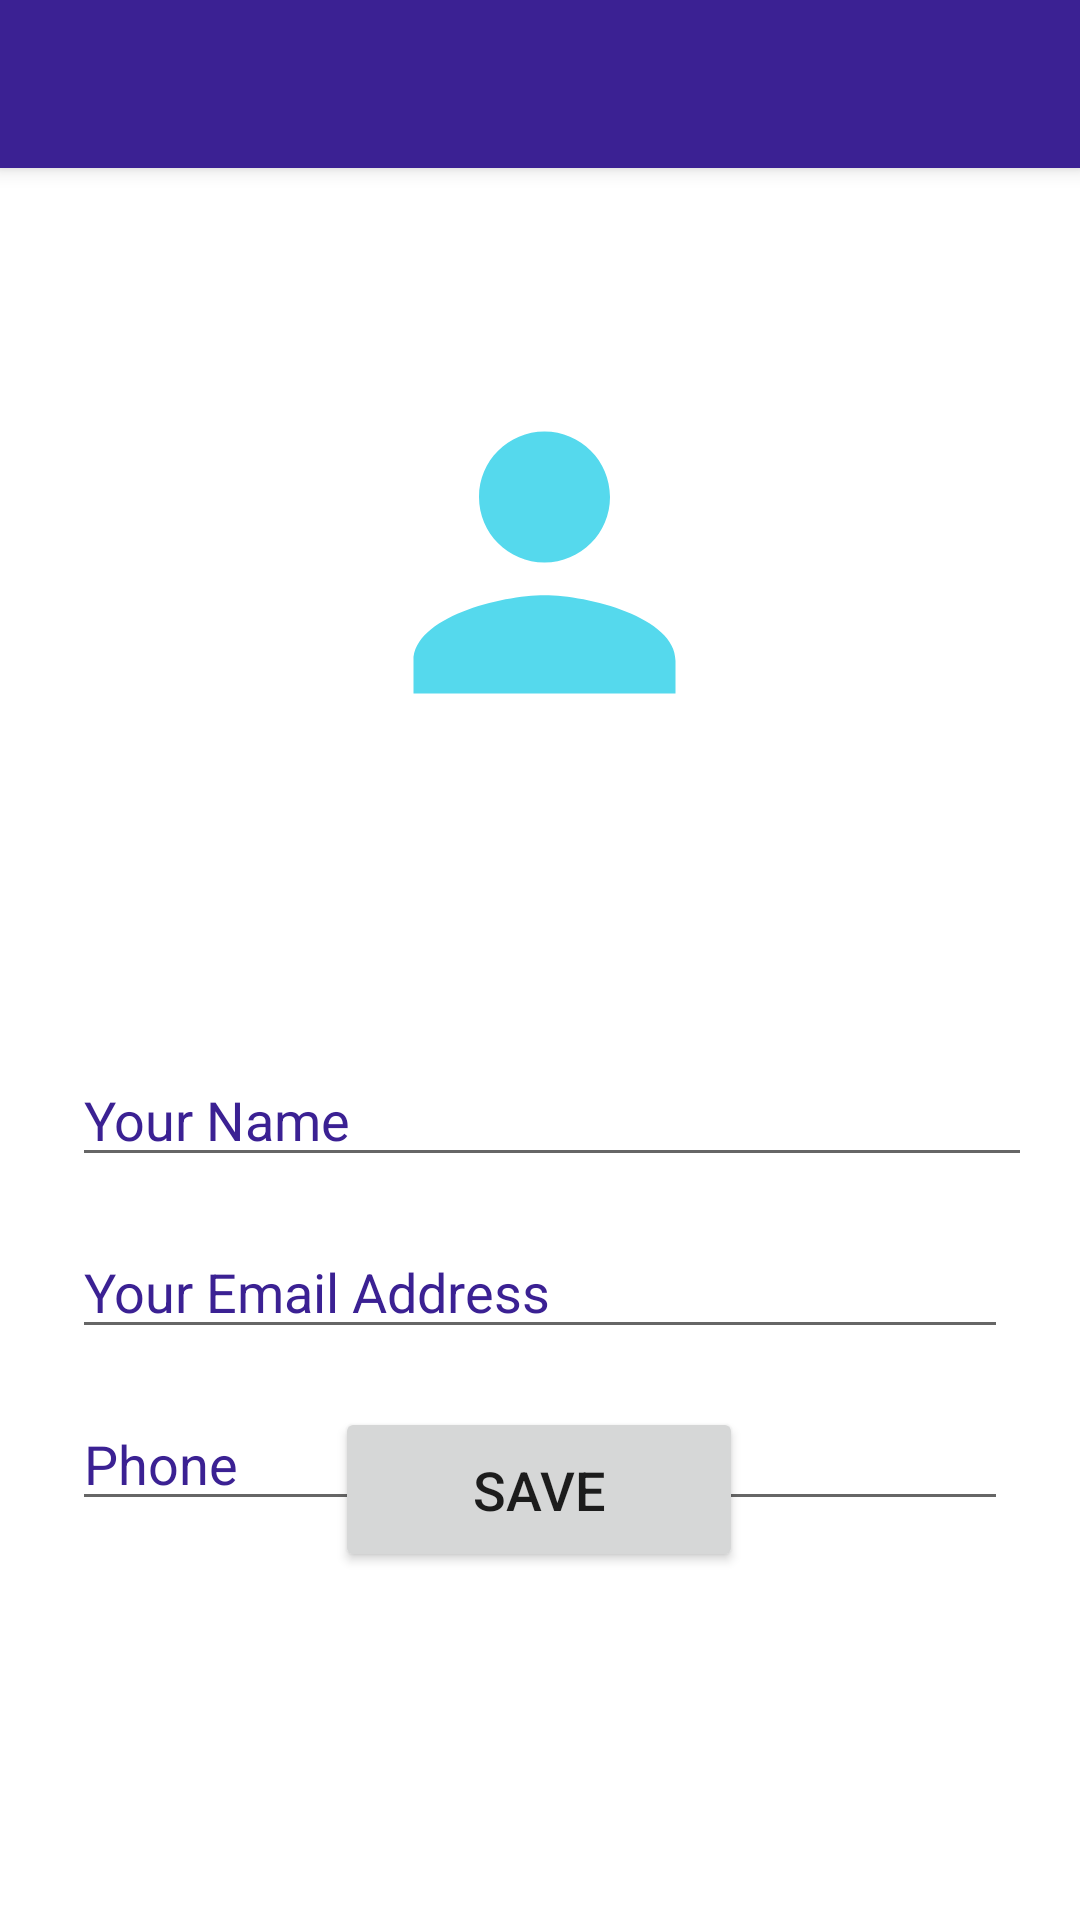

Icons on this 1080x1920 Android screen, each with its box as (x1, y1, x2, y2):
person: (413, 431, 676, 694)
